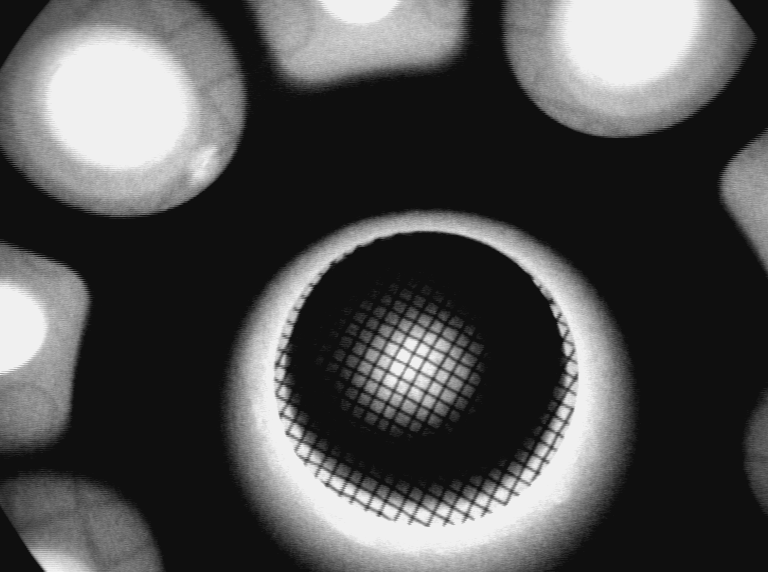defect: (182, 139, 222, 190)
